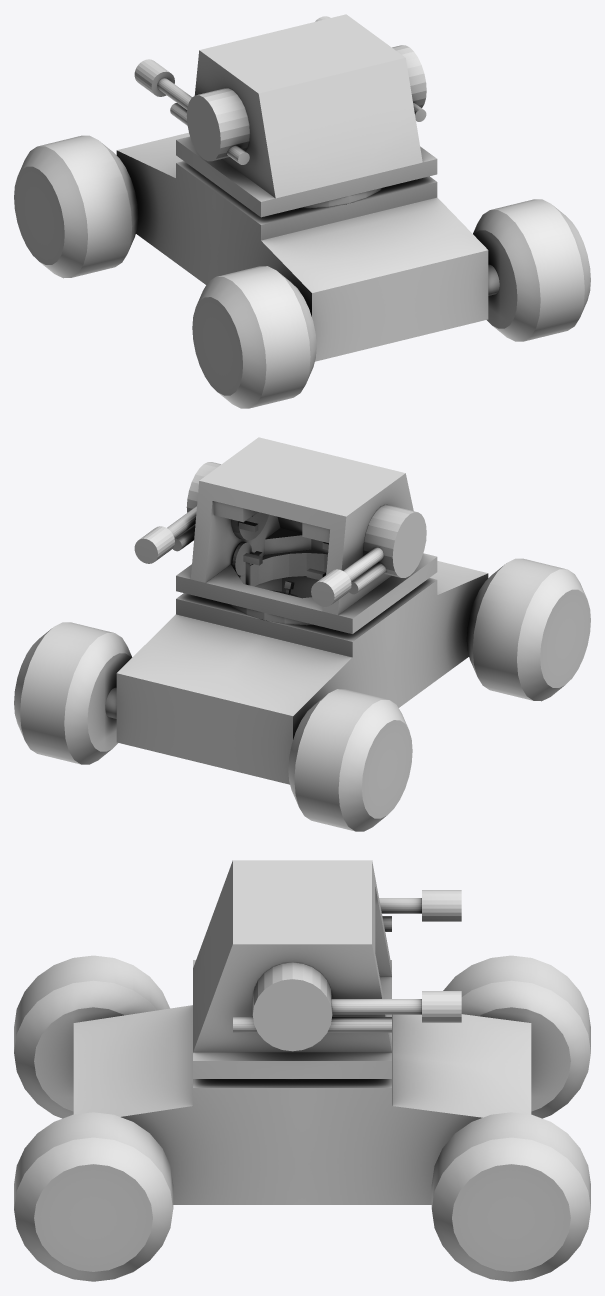
Rendered from Tanky.glb.
The picture shows the model from 3 angles, top to bottom: view 1: azimuth 30°, elevation 25°; view 2: azimuth 150°, elevation 25°; view 3: azimuth 270°, elevation 25°; orthographic projection. The views are drawn at different scales.
Parts seen in each view (by area): view 1: Tank_Body, Turret, WheelBL, WheelFL, WheelBR, ElevatorL, CannonL, ElevatorR; view 2: Tank_Body, Turret, WheelFL, WheelBL, WheelFR, ElevatorL, CannonL, CannonR, ElevatorR; view 3: Tank_Body, Turret, WheelBR, WheelFR, WheelBL, WheelFL, ElevatorR, CannonR, CannonL.
Part boxes in pixels (x1,y1,x2,y2): Tank_Body: (116,132,488,361); Turret: (176,14,437,217); WheelBL: (192,266,316,408); WheelFL: (14,135,138,278); WheelBR: (473,199,590,341); ElevatorL: (170,88,250,164); CannonL: (134,59,192,109); ElevatorR: (392,45,426,121); Tank_Body: (116,561,488,784); Turret: (176,437,437,633); WheelFL: (288,689,412,831); WheelBL: (466,558,590,701); WheelFR: (14,622,132,764); ElevatorL: (349,505,426,594); CannonL: (311,547,383,606); CannonR: (134,506,196,563); ElevatorR: (172,462,268,551); Tank_Body: (73,1005,531,1204); Turret: (193,860,391,1079); WheelBR: (14,1112,173,1281); WheelFR: (431,1112,590,1281); WheelBL: (14,955,169,1118); WheelFL: (443,955,590,1118); ElevatorR: (233,962,391,1051); CannonR: (331,991,461,1022); CannonL: (379,890,461,921).
Size of the model in its own units: 2.36 by 1.6 by 2.9.
Materials: 1 (1 with a texture image).
